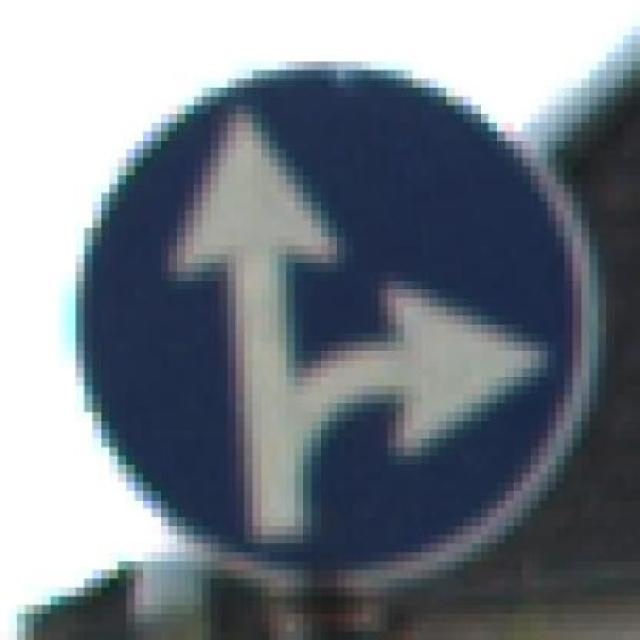Go Straight or Turn Right: (59, 62, 616, 588)
